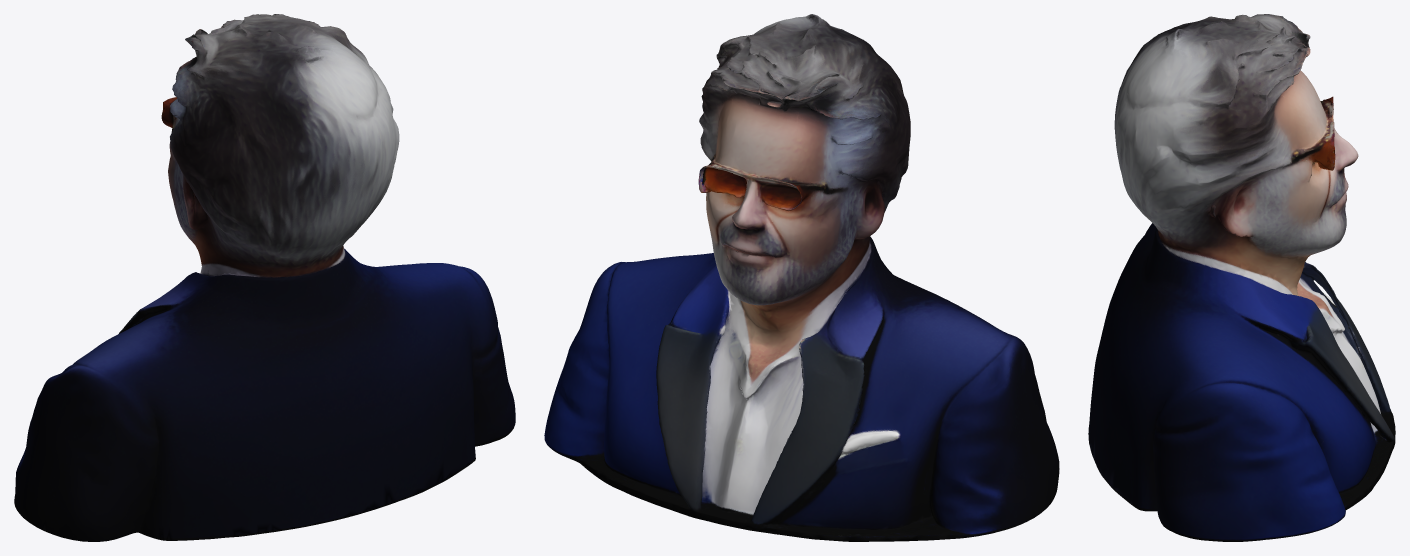
File: MoeinBust.glb
3 renders of one model, left to right at view 1: azimuth 30°, elevation 25°; view 2: azimuth 150°, elevation 25°; view 3: azimuth 270°, elevation 25°, orthographic. The views are drawn at different scales.
Parts seen in each view (by area): view 1: world; view 2: world; view 3: world.
Boxes of the visible parts, x1,y1,x2,y2 form: world: (14,14,515,541); world: (544,14,1059,541); world: (1088,14,1395,541).
Bounding box in the file's own units: 0.9997 × 0.8763 × 0.5893.
1 material, 1 textured.
